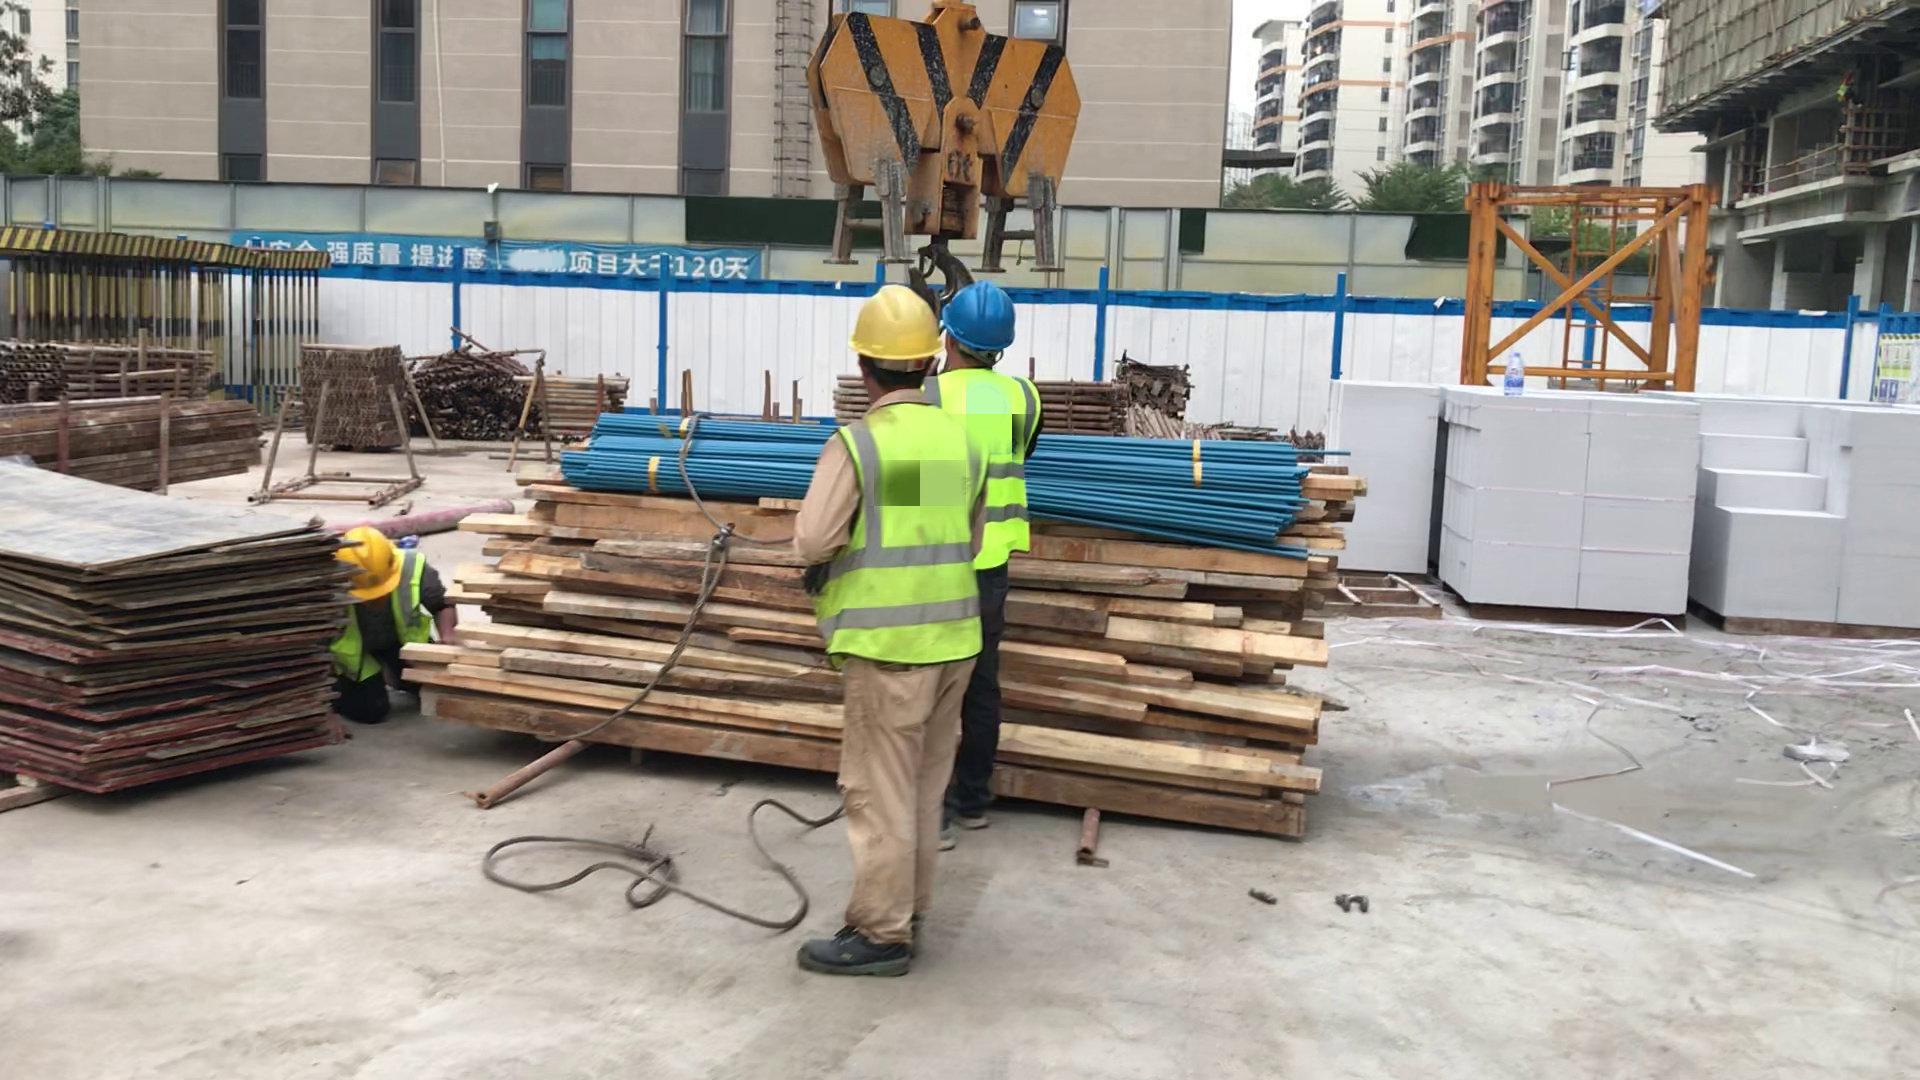board: (1, 451, 353, 792)
brick: (1333, 373, 1920, 652)
helmet: (840, 287, 945, 366), (950, 274, 1016, 359), (341, 523, 402, 603)
hook: (800, 1, 1069, 285)
person: (809, 287, 975, 991), (940, 276, 1039, 842), (338, 519, 454, 720)
scaffold: (8, 327, 212, 393), (297, 341, 411, 454), (417, 346, 528, 438), (1034, 369, 1134, 434), (533, 370, 619, 435)
slogan: (243, 221, 756, 287)
vest: (826, 414, 984, 668), (939, 368, 1038, 572), (396, 544, 432, 657)
wood: (471, 476, 1336, 847)
